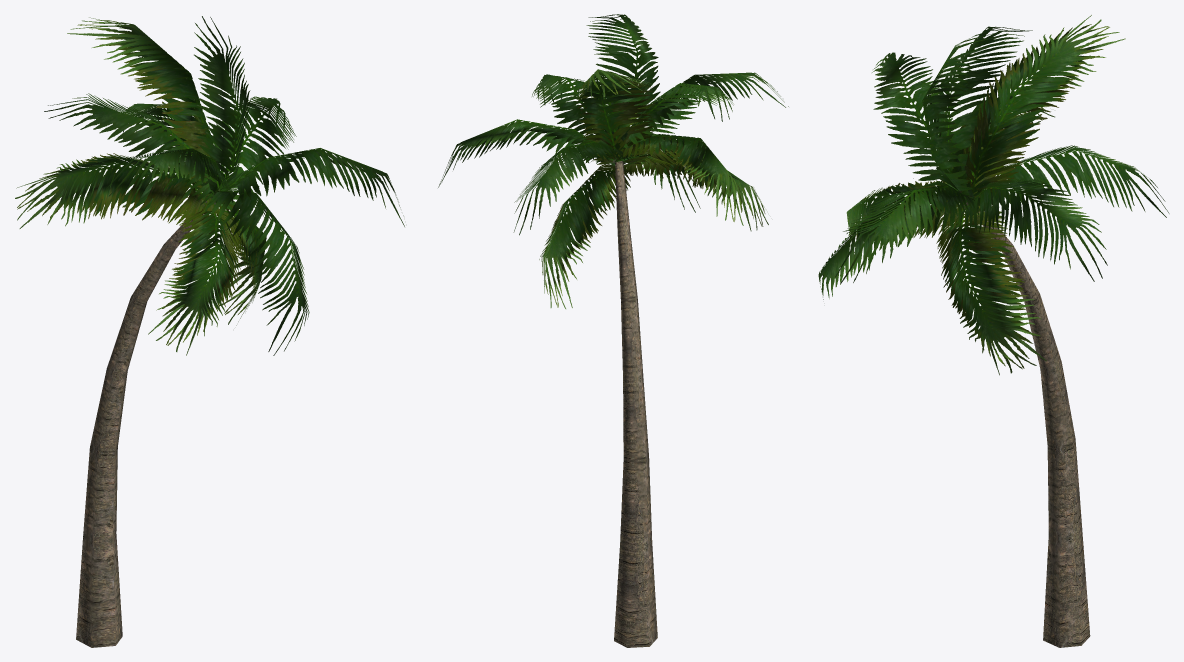
File: obj__palmt1.obj
3 renders of one model, left to right at view 1: azimuth 30°, elevation 25°; view 2: azimuth 150°, elevation 25°; view 3: azimuth 270°, elevation 25°, orthographic. The views are drawn at different scales.
Visible parts, largest first — view 1: palmt1.tga; view 2: palmt1.tga; view 3: palmt1.tga.
Part boxes in pixels (x1,y1,x2,y2): palmt1.tga: (15,16,404,647); palmt1.tga: (438,14,788,647); palmt1.tga: (818,15,1169,647).
Bounding box in the file's own units: 191 × 364 × 181.
Materials: 1 (1 with a texture image).
